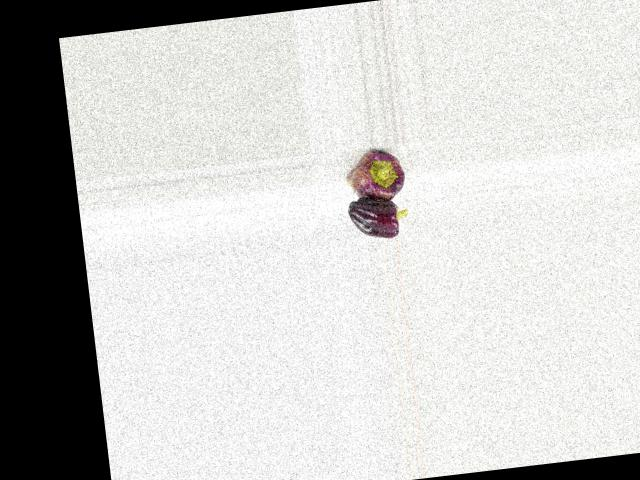bell_pepper: (332, 143, 418, 207)
